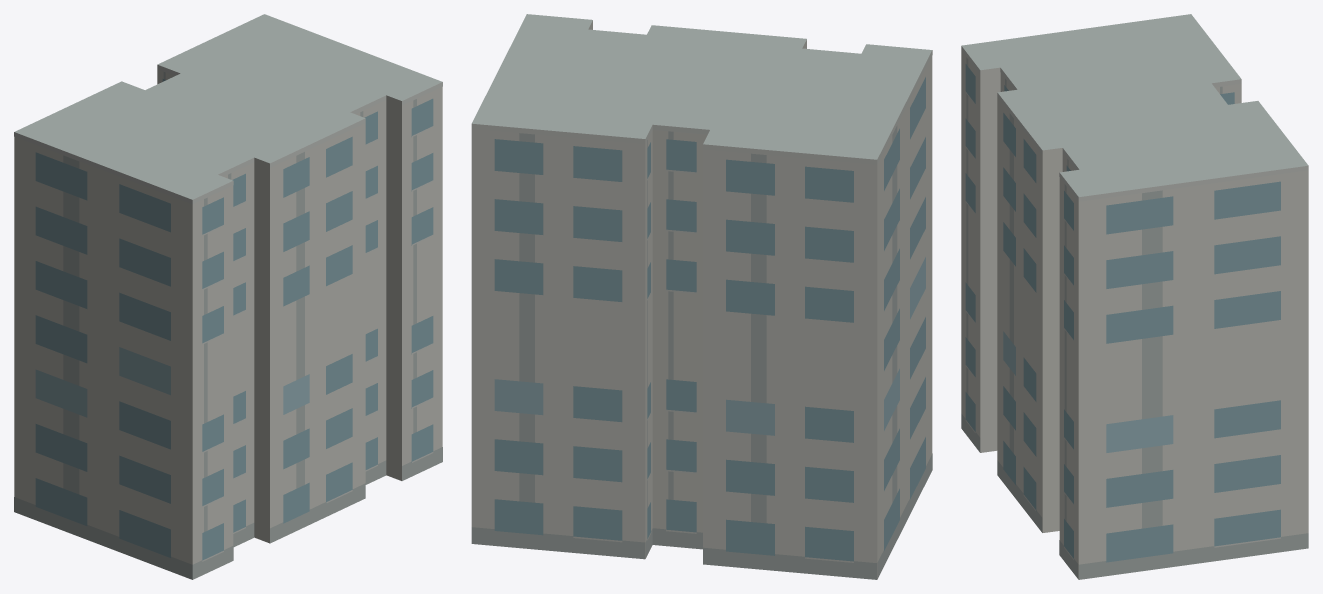
Rendered from survey-upis-32622825.glb.
The picture shows the model from 3 angles, left to right: view 1: azimuth 30°, elevation 25°; view 2: azimuth 150°, elevation 25°; view 3: azimuth 270°, elevation 25°; orthographic projection. The views are drawn at different scales.
Visible parts, largest first — view 1: survey-upis-32622825.tmp; view 2: survey-upis-32622825.tmp; view 3: survey-upis-32622825.tmp.
Part boxes in pixels (<box>): survey-upis-32622825.tmp: <box>14,14,442,579</box>; survey-upis-32622825.tmp: <box>471,14,932,579</box>; survey-upis-32622825.tmp: <box>961,14,1308,579</box>.
Size of the model in its own units: 20.33 by 19.8 by 16.3.
